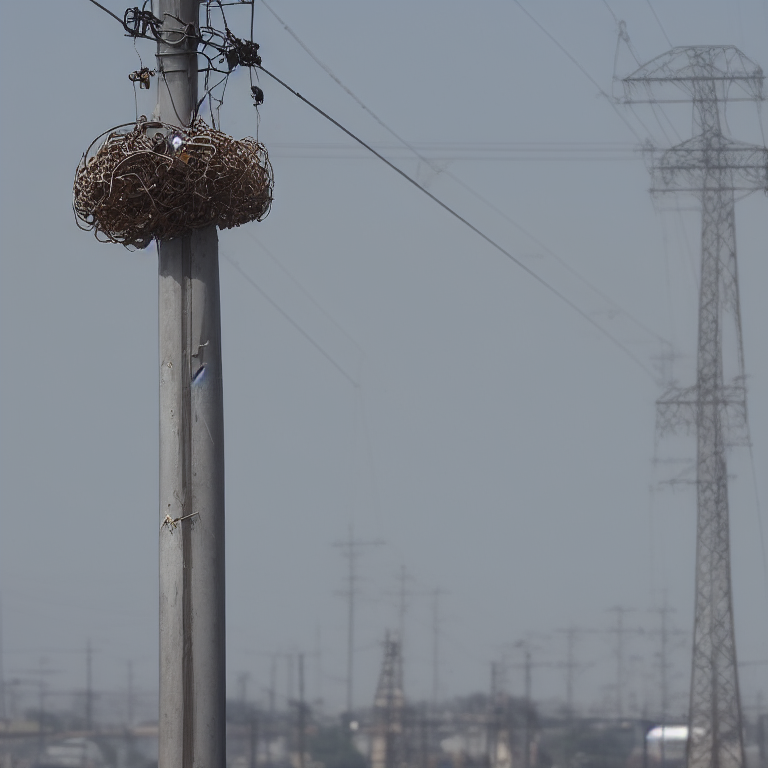nest: (76, 130, 277, 241)
